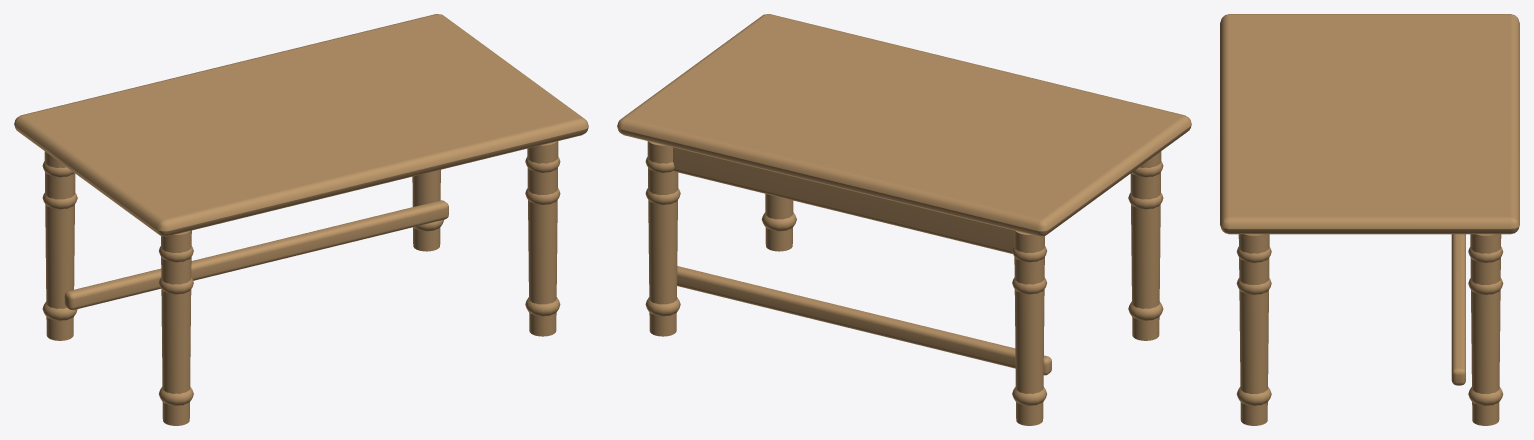
The model's file is botanic-desk.glb.
3 renders of one model, left to right at view 1: azimuth 30°, elevation 25°; view 2: azimuth 150°, elevation 25°; view 3: azimuth 270°, elevation 25°, orthographic.
Visible parts, largest first — view 1: Top.003; view 2: Top.003; view 3: Top.003.
Part boxes in pixels (<box>): Top.003: <box>14,14,588,425</box>; Top.003: <box>617,14,1191,425</box>; Top.003: <box>1220,14,1519,425</box>.
Size of the model in its own units: 2.4 by 1.15 by 1.45.
